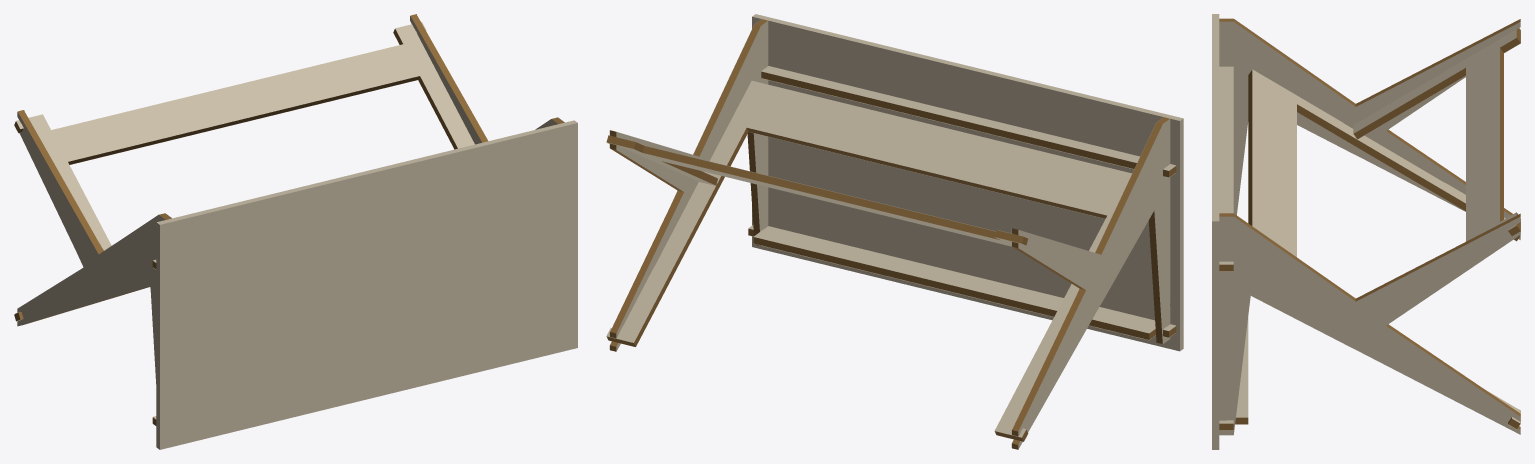
File: NODO_ESCRITORIO_ESCULTORICO_KIRI_AR_PIPELINE_CLASICO_V12.glb
The picture shows the model from 3 angles, left to right: view 1: azimuth 30°, elevation 25°; view 2: azimuth 150°, elevation 25°; view 3: azimuth 270°, elevation 25°; orthographic projection. The views are drawn at different scales.
Parts seen in each view (by area): view 1: G_Tapa_Superior_CARAS_COLOR_REAL, B_Escuadra_Trasera_PIEL_LISA_1, D_Lateral_Izq_PIEL_LISA_-1, G_Tapa_Superior_CANTO_MDF, B_Escuadra_Trasera_canto, D_Lateral_Izq_cuerpo, D_Lateral_Izq_canto, C_Lateral_Der_canto, C_Lateral_Der_PIEL_LISA_-1; view 2: G_Tapa_Superior_CARAS_COLOR_REAL, A_Escuadra_Delantera_PIEL_LISA_1, D_Lateral_Izq_PIEL_LISA_-1, F_Traba_Delantera_PIEL_LISA_1, A_Escuadra_Delantera_cuerpo, C_Lateral_Der_PIEL_LISA_-1, B_Escuadra_Trasera_canto, D_Lateral_Izq_canto, C_Lateral_Der_canto, E_Traba_Trasera_PIEL_LISA_1, E_Traba_Trasera_canto, F_Traba_Delantera_canto (+5 smaller); view 3: C_Lateral_Der_PIEL_LISA_1, D_Lateral_Izq_PIEL_LISA_1, A_Escuadra_Delantera_PIEL_LISA_1, B_Escuadra_Trasera_PIEL_LISA_1, G_Tapa_Superior_CANTO_MDF, C_Lateral_Der_cuerpo, A_Escuadra_Delantera_canto, E_Traba_Trasera_PIEL_LISA_1, D_Lateral_Izq_cuerpo, B_Escuadra_Trasera_canto, C_Lateral_Der_canto, A_Escuadra_Delantera_cuerpo (+3 smaller).
Boxes of the visible parts, box(x1,y1,x2,y2) form: G_Tapa_Superior_CARAS_COLOR_REAL: box(160, 123, 577, 449); B_Escuadra_Trasera_PIEL_LISA_1: box(16, 22, 474, 250); D_Lateral_Izq_PIEL_LISA_-1: box(17, 112, 164, 330); G_Tapa_Superior_CANTO_MDF: box(156, 120, 577, 449); B_Escuadra_Trasera_canto: box(14, 29, 457, 164); D_Lateral_Izq_cuerpo: box(17, 112, 165, 383); D_Lateral_Izq_canto: box(18, 110, 171, 325); C_Lateral_Der_canto: box(410, 14, 564, 142); C_Lateral_Der_PIEL_LISA_-1: box(410, 16, 557, 144); G_Tapa_Superior_CARAS_COLOR_REAL: box(752, 16, 1179, 351); A_Escuadra_Delantera_PIEL_LISA_1: box(606, 80, 1131, 437); D_Lateral_Izq_PIEL_LISA_-1: box(1018, 119, 1170, 448); F_Traba_Delantera_PIEL_LISA_1: box(749, 225, 1175, 332); A_Escuadra_Delantera_cuerpo: box(607, 127, 1106, 437); C_Lateral_Der_PIEL_LISA_-1: box(616, 21, 768, 350); B_Escuadra_Trasera_canto: box(606, 135, 1027, 245); D_Lateral_Izq_canto: box(1012, 117, 1169, 449); C_Lateral_Der_canto: box(610, 19, 767, 351); E_Traba_Trasera_PIEL_LISA_1: box(761, 66, 1175, 170); E_Traba_Trasera_canto: box(761, 71, 1176, 177); F_Traba_Delantera_canto: box(748, 228, 1176, 339); C_Lateral_Der_PIEL_LISA_1: box(1219, 216, 1520, 435); D_Lateral_Izq_PIEL_LISA_1: box(1219, 22, 1520, 239); A_Escuadra_Delantera_PIEL_LISA_1: box(1252, 69, 1520, 423); B_Escuadra_Trasera_PIEL_LISA_1: box(1353, 29, 1516, 241); G_Tapa_Superior_CANTO_MDF: box(1212, 14, 1219, 449); C_Lateral_Der_cuerpo: box(1219, 217, 1520, 434); A_Escuadra_Delantera_canto: box(1248, 70, 1520, 428); E_Traba_Trasera_PIEL_LISA_1: box(1219, 66, 1233, 264); D_Lateral_Izq_cuerpo: box(1219, 21, 1520, 239); B_Escuadra_Trasera_canto: box(1354, 28, 1520, 235); C_Lateral_Der_canto: box(1219, 213, 1520, 429); A_Escuadra_Delantera_cuerpo: box(1252, 70, 1520, 423).
Size of what is drawn, in the model's own units: 1.22 by 0.628 by 0.7686.
2 materials, 2 textured.
